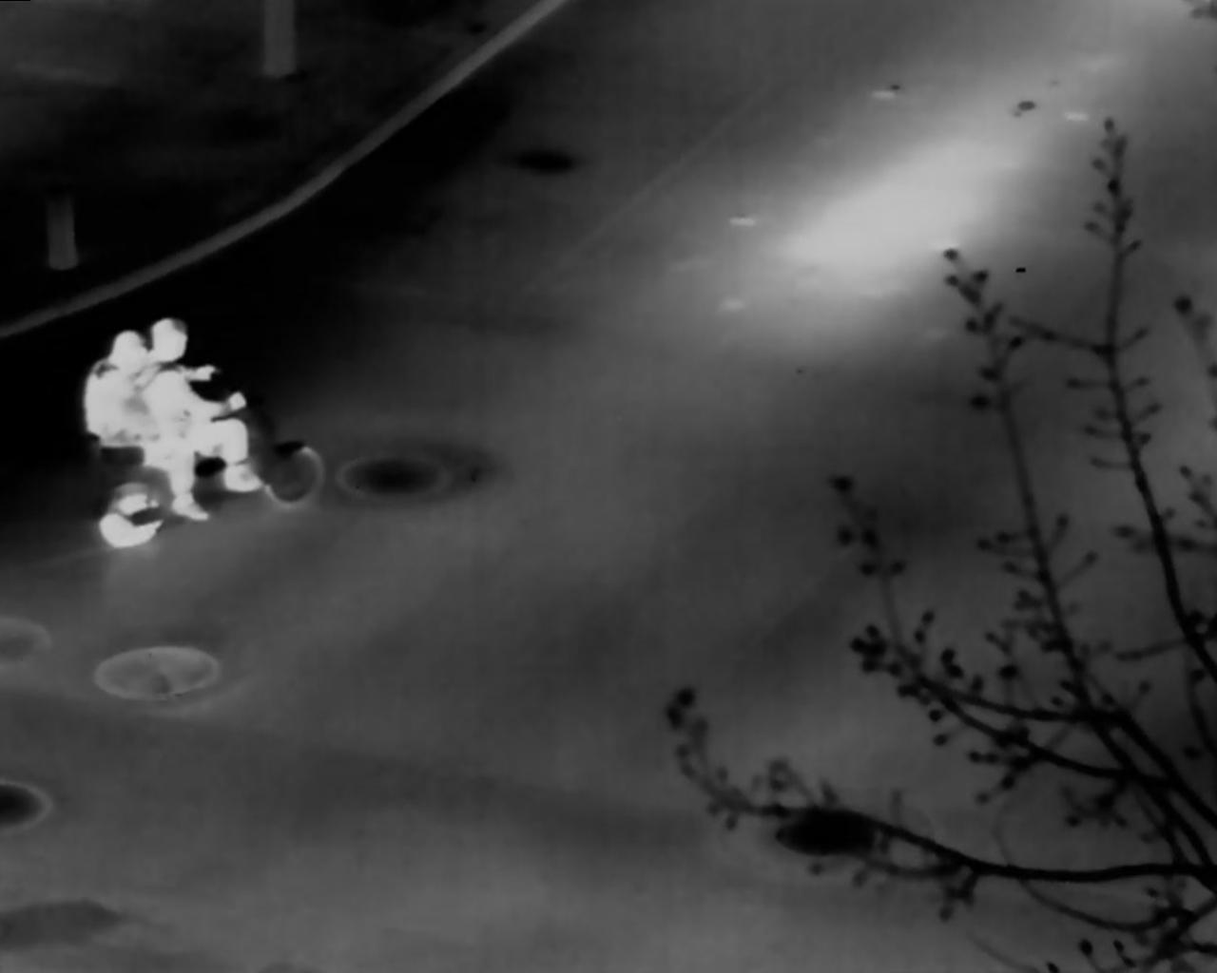person: (151, 316, 262, 522), (80, 328, 187, 520)
